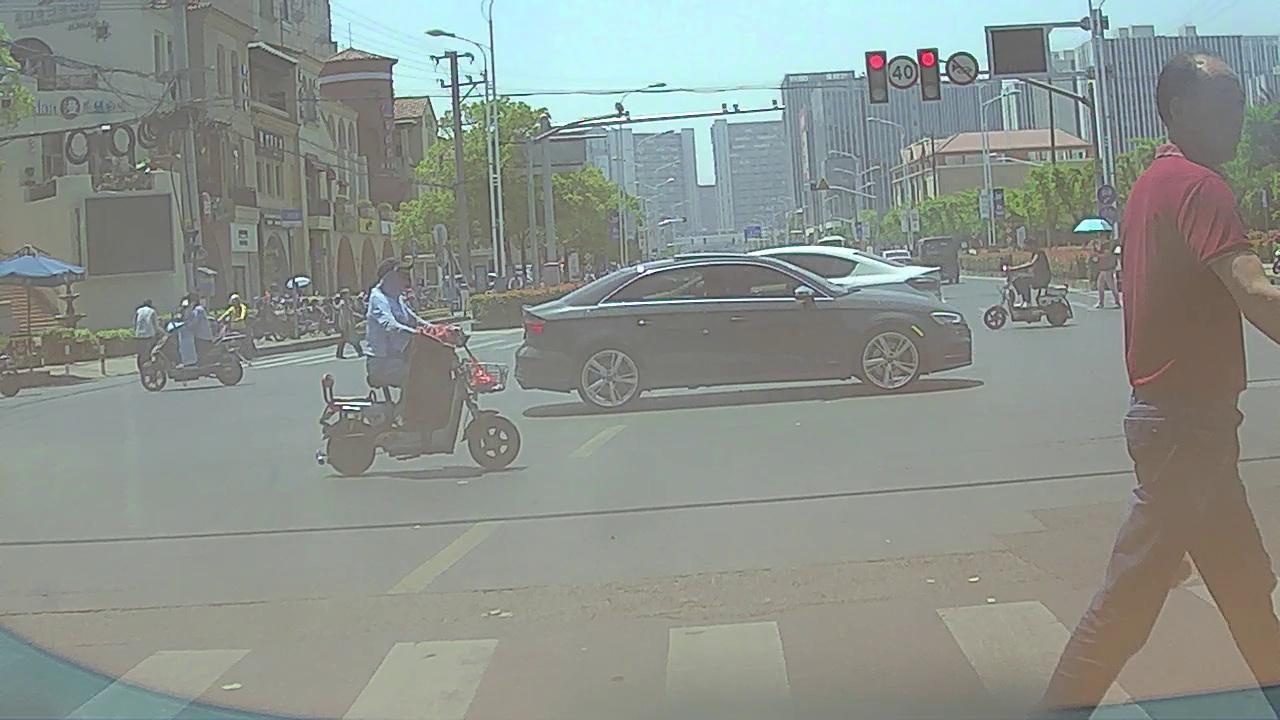traffic_light: (868, 52, 887, 101), (921, 50, 938, 98)
